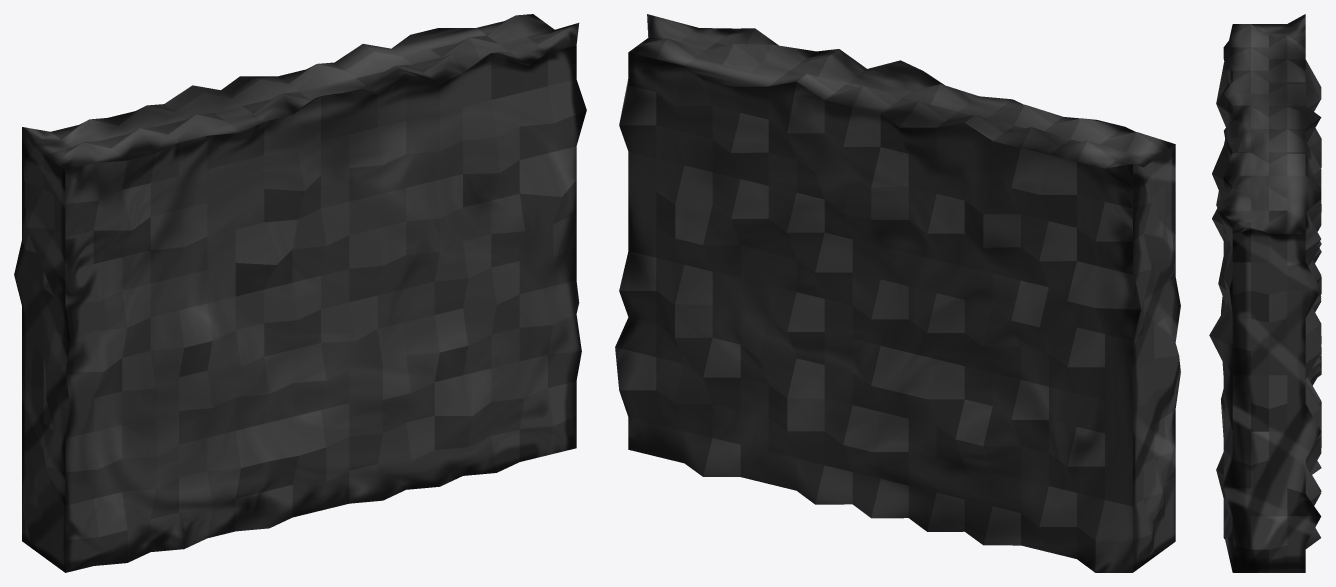
Rendered from wall_model1.fbx.
3 renders of one model, left to right at view 1: azimuth 30°, elevation 25°; view 2: azimuth 150°, elevation 25°; view 3: azimuth 270°, elevation 25°, orthographic. The views are drawn at different scales.
Visible parts, largest first — view 1: Cube; view 2: Cube; view 3: Cube.
Boxes of the visible parts, x1,y1,x2,y2 form: Cube: (14,14,586,572); Cube: (615,14,1180,572); Cube: (1209,14,1321,572).
Bounding box in the file's own units: 1436 × 1062 × 309.
